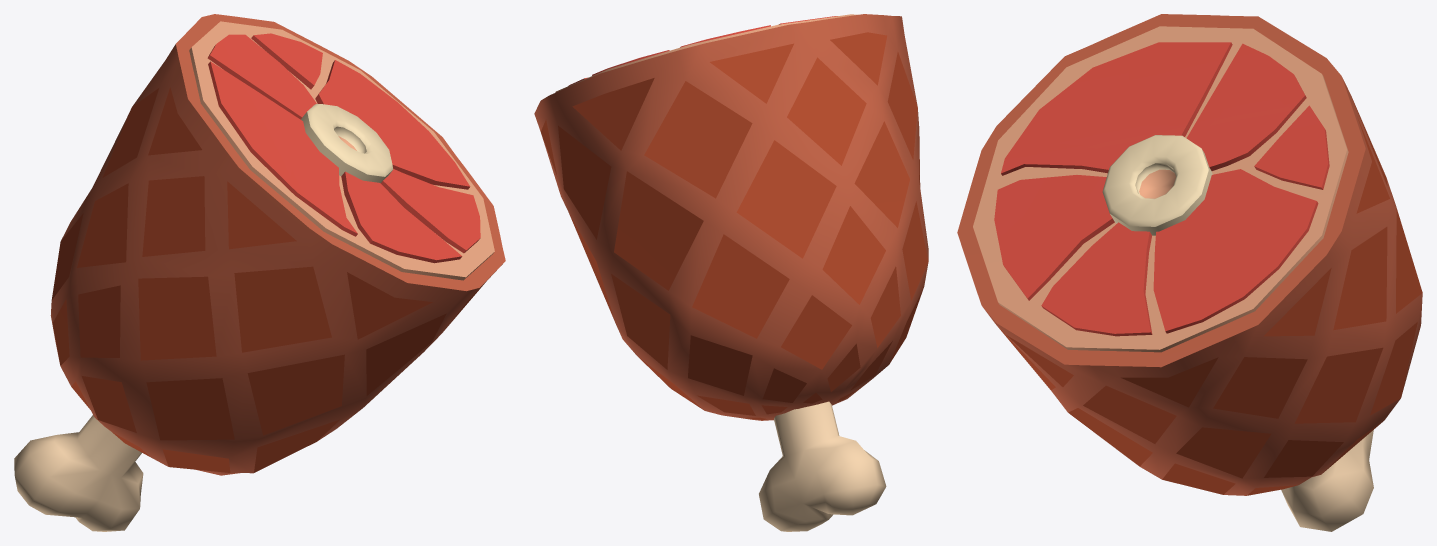
3 views of the same model, side by side, from view 1: azimuth 30°, elevation 25°; view 2: azimuth 150°, elevation 25°; view 3: azimuth 270°, elevation 25° (orthographic). The views are drawn at different scales.
Visible parts, largest first — view 1: model_1.027; view 2: model_1.027; view 3: model_1.027.
Boxes of the visible parts, bbox=[...] form: model_1.027: bbox=[14, 14, 505, 531]; model_1.027: bbox=[534, 14, 928, 531]; model_1.027: bbox=[957, 14, 1422, 531].
Size of the model in its own units: 3.47 by 4.13 by 3.28.
